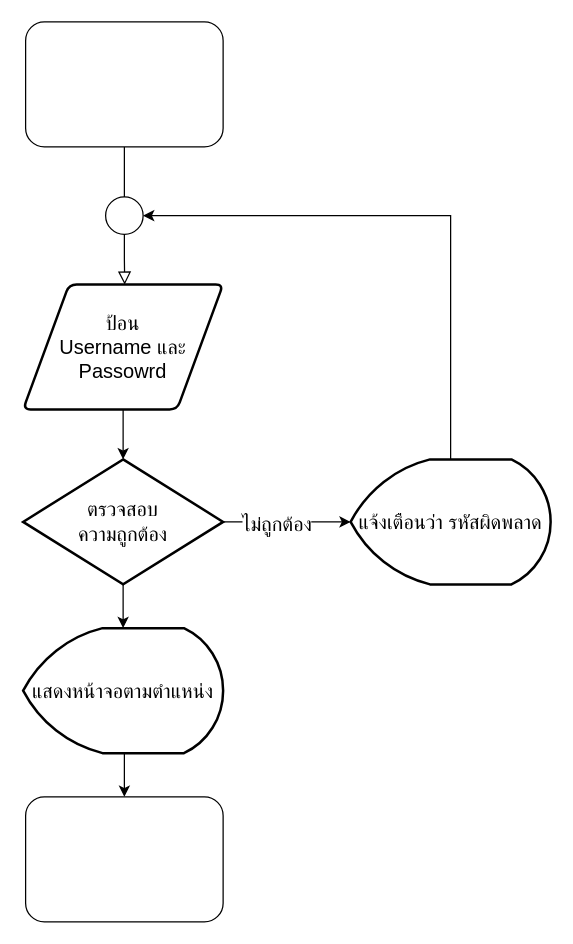
The diagram is 573 pixels wide and 944 high, and some of its shapes have lost their labels. The shapes that lost their labels are listed below. From the top down, each one's centre as x and y in pixels, then its label:
At [123,84]: "เริ่ม".
At [123,859]: "จบการทำงาน".
